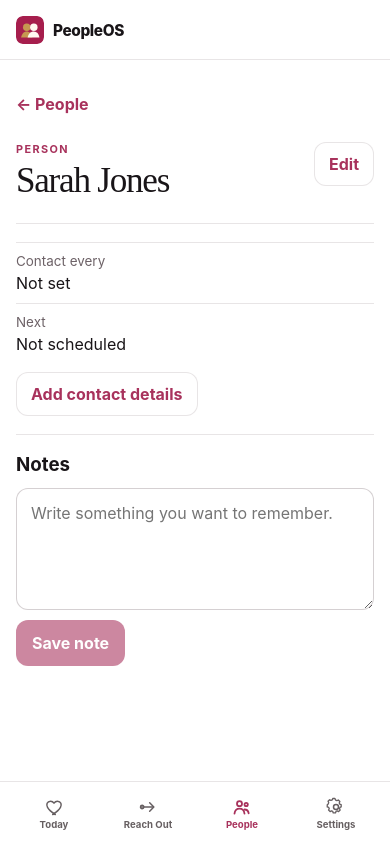
Test case: simple Profile and Person lifecycle UI › takes a no-contact Profile directly to the retained Contact Methods route
This screenshot has width=390, height=844.
Click the button "Add contact details": coordinates (107, 394) [16, 372, 198, 416]
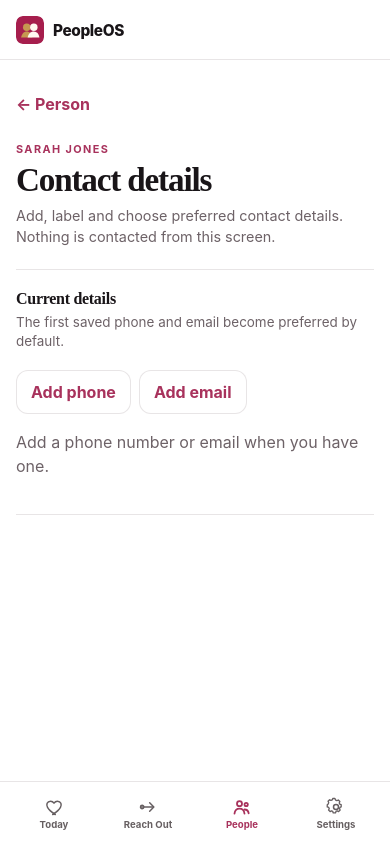
Check: the button "Add email" is shown, box [139, 370, 246, 414]
